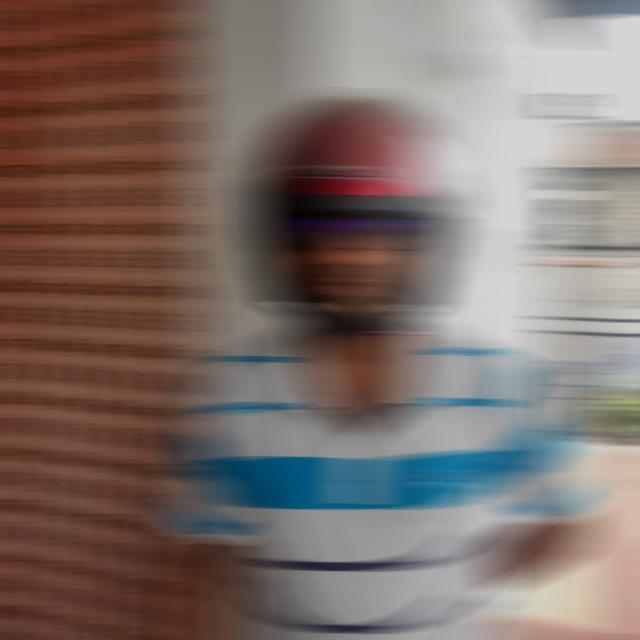With Helmet: (238, 83, 470, 323)
